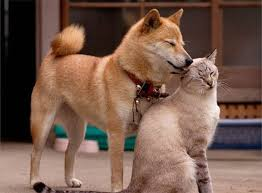cat: (139, 49, 223, 192)
dog: (22, 9, 192, 192)
